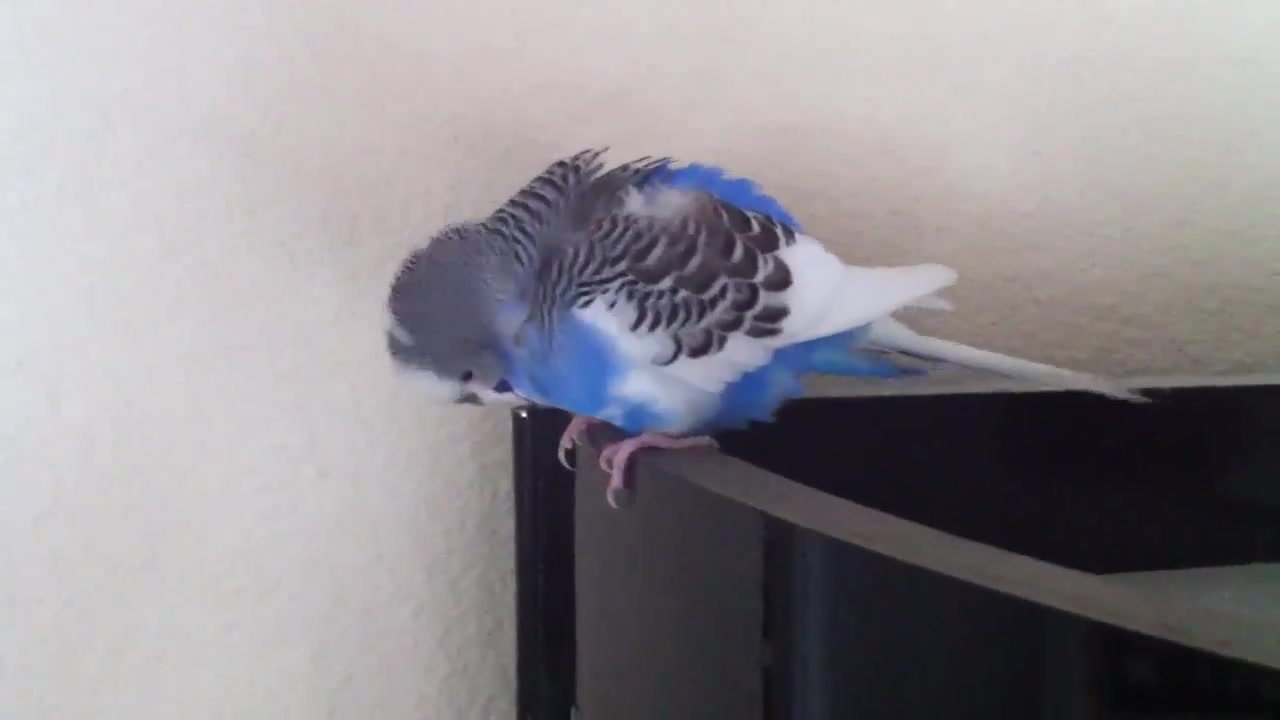bird: (387, 147, 964, 509)
